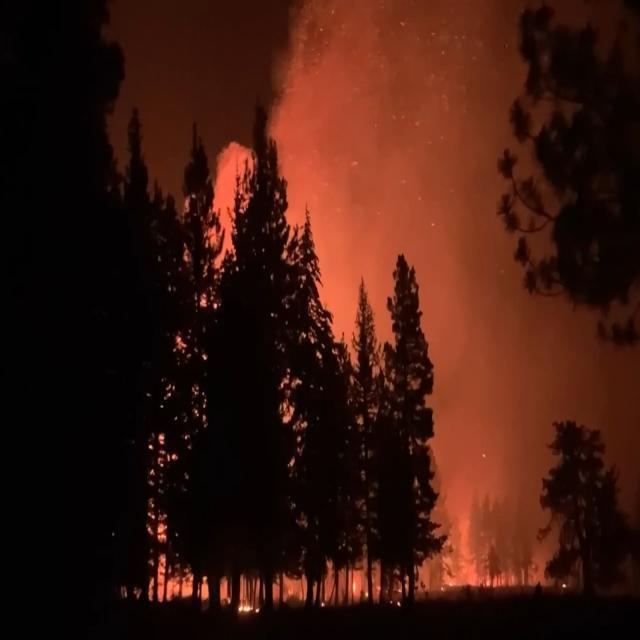Fire: (151, 554, 414, 618)
